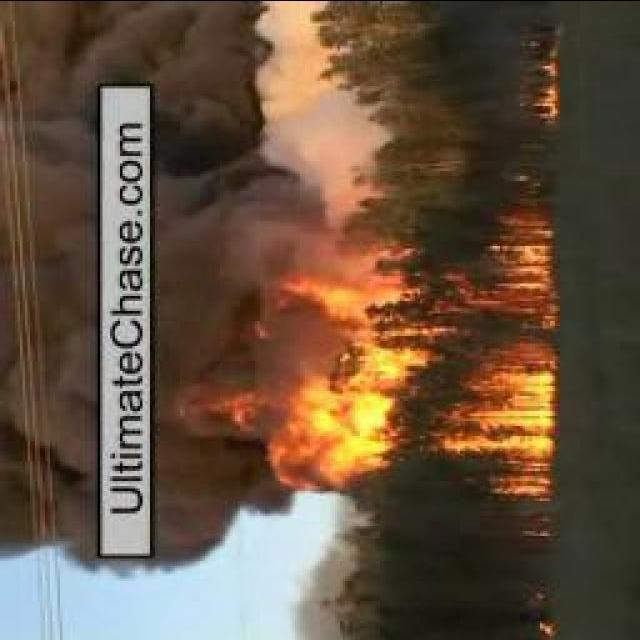Fire: (225, 204, 554, 486), (526, 34, 558, 130)
